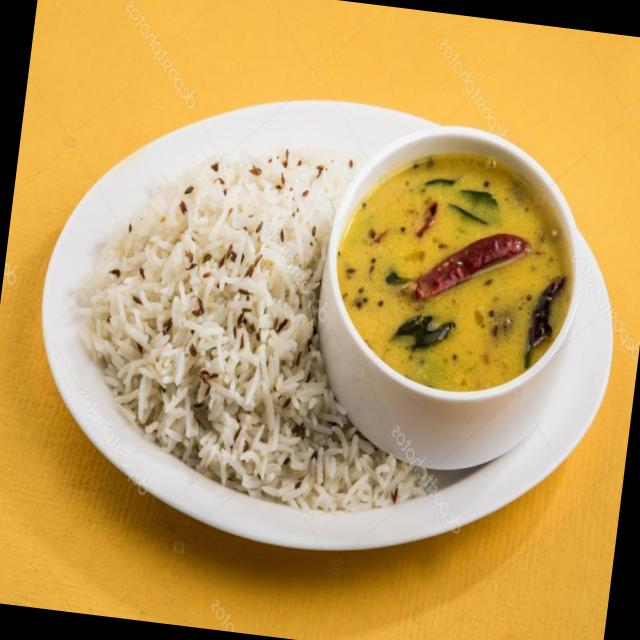dal: (321, 139, 584, 407)
rice: (77, 141, 433, 518)
